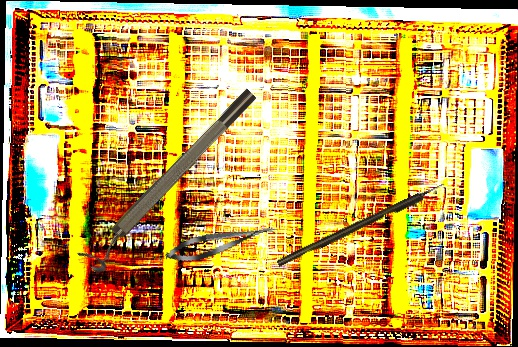Fixation Ring: (76, 85, 267, 276)
Hook Surgical: (275, 181, 448, 268)
Micro Scissor: (162, 217, 280, 268)
